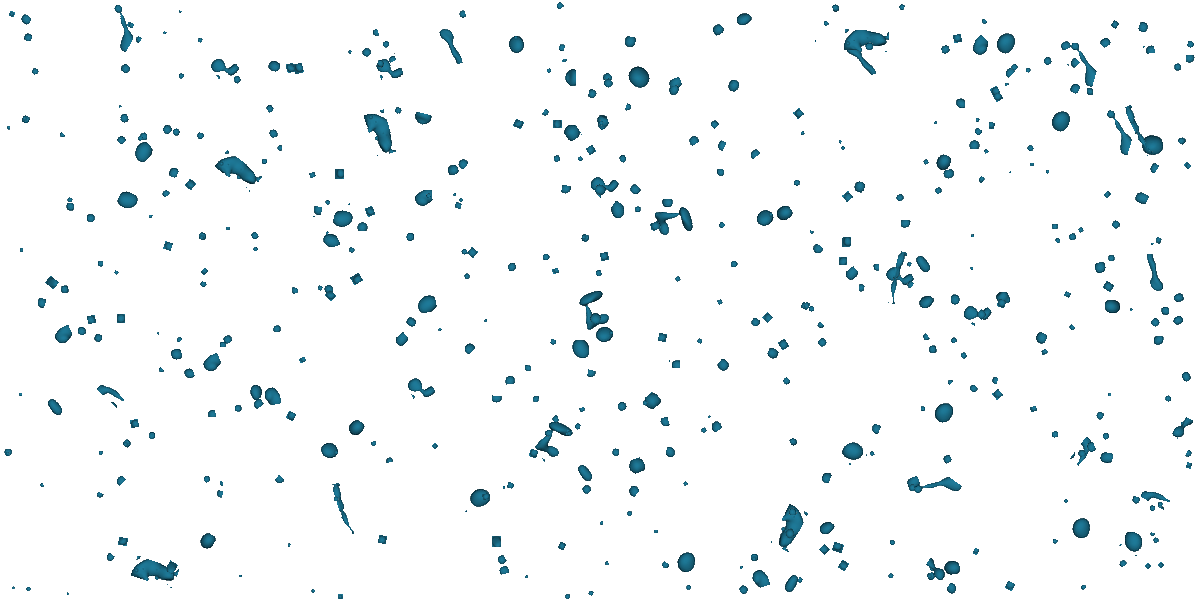Detached ligament: (525, 410, 582, 466), (912, 464, 963, 513), (649, 196, 700, 244), (97, 3, 145, 53), (214, 149, 263, 194), (571, 286, 615, 333), (1096, 109, 1139, 156), (769, 503, 809, 553), (1061, 41, 1103, 88), (130, 555, 180, 590), (363, 109, 397, 158), (1123, 104, 1154, 157), (844, 39, 877, 81), (331, 482, 355, 536), (586, 167, 621, 202), (843, 28, 890, 54), (886, 250, 908, 305), (959, 296, 994, 330), (207, 50, 241, 84), (882, 259, 916, 293), (404, 371, 437, 404), (373, 52, 405, 85), (438, 27, 463, 66), (1143, 253, 1168, 292), (95, 379, 126, 409), (1069, 435, 1097, 467), (1139, 485, 1171, 511), (922, 557, 950, 583), (1170, 414, 1194, 442)
drop: (465, 483, 495, 513), (1138, 130, 1167, 160), (839, 438, 868, 467), (1118, 528, 1147, 557), (625, 62, 653, 92), (128, 138, 156, 166), (114, 188, 142, 215), (1068, 515, 1095, 542), (968, 34, 994, 60), (674, 550, 699, 575), (504, 32, 529, 57), (592, 322, 617, 347), (331, 208, 356, 232), (51, 324, 76, 348), (932, 401, 956, 425), (343, 416, 367, 440), (771, 201, 795, 225), (753, 206, 777, 230), (200, 352, 224, 376), (780, 572, 803, 597), (607, 200, 631, 223), (414, 292, 438, 315), (45, 395, 67, 420), (575, 461, 597, 486), (913, 252, 935, 277), (195, 530, 218, 553), (318, 439, 341, 462), (748, 567, 771, 590), (640, 390, 663, 413), (560, 120, 583, 143), (318, 230, 341, 252), (732, 8, 754, 30), (815, 517, 837, 539), (995, 33, 1017, 54), (1050, 111, 1072, 132), (932, 152, 953, 174), (915, 291, 936, 313), (261, 385, 282, 407), (246, 381, 267, 402), (591, 111, 611, 133), (570, 339, 590, 361), (625, 456, 647, 476), (413, 189, 434, 209), (941, 558, 961, 576), (393, 331, 411, 349), (843, 265, 861, 283), (1104, 299, 1123, 316), (413, 111, 433, 127), (586, 309, 604, 326), (993, 291, 1012, 307), (1133, 190, 1150, 207), (715, 357, 732, 374), (1032, 330, 1049, 347), (944, 581, 961, 598), (626, 182, 643, 199), (725, 77, 742, 94), (709, 21, 726, 38), (667, 76, 684, 92), (905, 475, 922, 491), (180, 365, 196, 382), (266, 58, 283, 74), (1000, 64, 1016, 80), (111, 472, 127, 488), (461, 340, 477, 356), (851, 179, 867, 195), (765, 346, 781, 362), (249, 396, 265, 411), (745, 146, 761, 161), (1145, 160, 1160, 176), (708, 419, 724, 434), (626, 483, 641, 499), (666, 84, 682, 99), (664, 445, 679, 461), (600, 71, 616, 86), (159, 122, 174, 138), (601, 76, 616, 92), (118, 62, 134, 77), (613, 399, 629, 414), (44, 275, 60, 290), (564, 69, 577, 87), (455, 156, 470, 171), (810, 242, 825, 257), (18, 12, 33, 27), (1066, 56, 1081, 71), (273, 474, 288, 489), (1137, 20, 1152, 35), (164, 560, 179, 575), (445, 162, 460, 177), (593, 183, 608, 198), (1099, 451, 1114, 465), (868, 422, 882, 437), (686, 133, 701, 147), (713, 138, 727, 153), (1098, 35, 1113, 49), (819, 470, 833, 485), (410, 379, 425, 393), (349, 272, 364, 286), (1179, 369, 1193, 384), (1171, 313, 1186, 327), (169, 347, 183, 361), (1093, 261, 1107, 275), (1068, 81, 1082, 95), (966, 382, 980, 396), (1058, 38, 1072, 52), (75, 324, 89, 338), (404, 315, 418, 329), (34, 296, 47, 311), (658, 416, 671, 430), (167, 165, 180, 179), (1151, 335, 1165, 348), (953, 96, 966, 110), (1093, 408, 1106, 422), (1084, 441, 1097, 455), (831, 541, 845, 554), (1172, 291, 1186, 304), (580, 483, 593, 496), (221, 333, 234, 346), (360, 46, 373, 59), (737, 583, 750, 596), (950, 293, 963, 306), (1109, 218, 1122, 231), (1041, 55, 1054, 68), (497, 563, 510, 576), (121, 437, 134, 450), (115, 133, 128, 146), (816, 336, 829, 349), (749, 316, 762, 329), (1149, 316, 1162, 329), (708, 117, 721, 130), (103, 551, 116, 564), (466, 246, 479, 259), (975, 308, 988, 321), (324, 289, 337, 302), (292, 62, 305, 75), (184, 178, 197, 191), (837, 559, 850, 572), (792, 107, 805, 120), (495, 553, 508, 566), (991, 388, 1004, 401), (761, 311, 774, 324), (841, 190, 854, 203), (777, 338, 790, 351), (1102, 280, 1115, 293), (818, 543, 831, 556), (137, 130, 149, 143), (893, 192, 906, 204), (364, 205, 376, 218), (512, 118, 525, 130), (649, 220, 662, 232), (784, 527, 796, 540), (586, 369, 600, 380), (624, 36, 636, 48), (943, 169, 955, 181), (264, 102, 276, 114), (617, 152, 629, 164), (542, 427, 554, 439), (506, 261, 518, 273), (972, 126, 984, 138), (20, 114, 32, 126), (197, 230, 209, 242), (22, 31, 34, 43), (941, 453, 953, 465), (92, 332, 104, 344), (788, 435, 800, 447), (1176, 134, 1188, 146), (585, 144, 597, 156), (989, 85, 1001, 97), (285, 410, 297, 422), (118, 112, 130, 124), (1004, 580, 1016, 592), (162, 240, 174, 252), (992, 91, 1004, 103), (900, 219, 913, 230), (491, 395, 504, 406), (661, 198, 674, 209), (491, 535, 502, 548), (504, 374, 516, 385), (249, 230, 260, 242), (405, 231, 416, 243), (285, 62, 296, 74), (117, 536, 129, 547), (334, 168, 345, 180), (841, 236, 852, 248), (668, 359, 681, 369), (173, 333, 184, 344), (978, 17, 989, 28), (904, 279, 915, 290), (268, 128, 279, 139), (580, 233, 591, 244), (926, 571, 937, 582), (660, 560, 671, 571), (1117, 558, 1128, 569), (781, 376, 792, 387), (160, 188, 171, 199), (132, 34, 143, 45), (815, 321, 826, 332), (551, 413, 562, 424), (831, 2, 842, 13), (376, 58, 387, 69), (1130, 495, 1141, 506), (599, 251, 610, 262), (129, 418, 140, 429), (528, 448, 539, 459), (1025, 143, 1036, 154), (461, 271, 472, 282), (1150, 535, 1161, 546), (194, 131, 205, 142), (1038, 347, 1049, 358), (952, 33, 963, 44), (996, 298, 1007, 309), (657, 332, 668, 343), (561, 185, 573, 195), (204, 408, 216, 418), (271, 323, 283, 333), (610, 446, 620, 458), (2, 448, 14, 458), (1066, 232, 1078, 242), (232, 73, 242, 85), (969, 139, 980, 149), (357, 221, 368, 231), (85, 213, 96, 223), (56, 131, 67, 141), (155, 366, 166, 376), (944, 376, 955, 386), (1009, 62, 1020, 72), (710, 118, 720, 129), (386, 54, 397, 64), (1184, 448, 1194, 459), (921, 332, 931, 343), (541, 107, 551, 118), (95, 491, 106, 501), (171, 126, 181, 137), (1160, 305, 1170, 316), (1110, 19, 1120, 30), (552, 119, 563, 129), (959, 350, 969, 361), (176, 70, 186, 81), (716, 220, 726, 231), (554, 1, 565, 11), (948, 335, 959, 345), (976, 175, 986, 186), (116, 313, 126, 324), (1143, 45, 1155, 54), (313, 206, 322, 218), (1186, 55, 1198, 64), (381, 39, 391, 49), (202, 474, 212, 484), (1101, 431, 1111, 441), (750, 552, 760, 562), (65, 202, 75, 212), (928, 344, 938, 354), (60, 284, 70, 294), (864, 41, 874, 51), (788, 506, 798, 516), (715, 168, 725, 178), (838, 256, 848, 266), (800, 301, 810, 311), (557, 541, 567, 551), (792, 178, 802, 188), (542, 253, 552, 263), (730, 260, 740, 270), (806, 304, 816, 314), (459, 247, 469, 257), (1147, 503, 1157, 513), (371, 28, 380, 39), (232, 404, 243, 413), (1173, 61, 1182, 72), (594, 268, 603, 278), (30, 67, 40, 76), (393, 106, 403, 115), (990, 376, 999, 386), (624, 102, 633, 112), (552, 154, 562, 163), (148, 430, 157, 440), (557, 43, 566, 53), (324, 284, 333, 294), (481, 492, 491, 501), (198, 280, 208, 289), (573, 421, 582, 431), (549, 338, 559, 347), (506, 481, 516, 490), (1186, 40, 1196, 49), (588, 89, 597, 99), (897, 2, 906, 12), (1050, 537, 1059, 546), (821, 19, 830, 28), (934, 186, 943, 195), (941, 45, 950, 54), (1067, 323, 1076, 332), (796, 576, 805, 585), (87, 315, 96, 324), (378, 535, 387, 544), (200, 267, 209, 276), (1183, 161, 1192, 170), (1103, 190, 1112, 199), (1063, 290, 1072, 299), (1164, 394, 1173, 403), (1050, 430, 1059, 439), (1079, 583, 1088, 592), (136, 134, 145, 143), (1053, 236, 1062, 245), (872, 263, 880, 273), (532, 395, 542, 403), (524, 362, 532, 372), (887, 539, 897, 547), (1107, 254, 1116, 262), (1077, 449, 1086, 457), (218, 340, 227, 348), (291, 285, 299, 294), (1086, 87, 1094, 96), (1029, 405, 1038, 413), (972, 547, 980, 556), (551, 267, 560, 275), (298, 356, 307, 364), (126, 21, 135, 29), (803, 301, 811, 310), (634, 205, 642, 214), (96, 260, 104, 269), (424, 192, 433, 200), (260, 158, 269, 166), (545, 67, 553, 75), (576, 155, 584, 163), (578, 406, 586, 414), (332, 495, 340, 503), (922, 158, 930, 166), (66, 196, 74, 204), (324, 198, 332, 206), (252, 245, 260, 253), (685, 583, 693, 591), (905, 260, 913, 268), (1144, 562, 1152, 570), (8, 10, 16, 18), (1157, 561, 1165, 569), (431, 442, 439, 450), (799, 130, 807, 138), (37, 481, 45, 489), (674, 275, 682, 283), (1077, 226, 1085, 234), (696, 337, 704, 345), (700, 426, 708, 434), (887, 572, 895, 580), (681, 480, 689, 488), (112, 269, 120, 277), (597, 119, 605, 127), (196, 36, 204, 44), (1024, 66, 1032, 74), (641, 399, 649, 407), (587, 589, 595, 597), (316, 284, 324, 292), (482, 317, 490, 325), (932, 119, 940, 127), (451, 191, 459, 199), (523, 573, 531, 581), (868, 449, 876, 457), (982, 147, 990, 155), (24, 585, 32, 593), (839, 144, 847, 152), (1062, 497, 1070, 505), (216, 490, 223, 499), (459, 10, 466, 19), (384, 456, 393, 463), (455, 200, 462, 209), (347, 247, 356, 254), (1155, 237, 1162, 246), (275, 144, 282, 152), (920, 405, 927, 413), (908, 484, 915, 492), (1051, 223, 1059, 230), (1156, 501, 1164, 508), (859, 283, 865, 292), (309, 588, 316, 595), (346, 49, 353, 56), (564, 593, 571, 600), (626, 510, 633, 517), (969, 232, 976, 239), (337, 593, 344, 600), (975, 117, 982, 124), (97, 450, 104, 457), (501, 484, 508, 491), (237, 573, 244, 580), (4, 451, 11, 458), (370, 441, 377, 447), (1044, 169, 1050, 176), (309, 172, 316, 178), (738, 564, 745, 570), (989, 122, 995, 129), (1186, 462, 1192, 469), (437, 327, 443, 333), (162, 30, 168, 36), (685, 586, 691, 592), (458, 197, 464, 203), (566, 430, 572, 436), (603, 560, 609, 566), (1149, 532, 1155, 538), (717, 299, 723, 305), (837, 139, 843, 145), (1128, 306, 1134, 312), (177, 9, 183, 15), (117, 103, 123, 109), (155, 330, 161, 336), (809, 230, 816, 235), (6, 125, 11, 132), (599, 521, 604, 527), (969, 266, 974, 272), (463, 509, 469, 514), (19, 247, 24, 253), (225, 226, 231, 231), (653, 529, 659, 534), (1029, 162, 1035, 167), (1106, 392, 1112, 397), (148, 214, 154, 219), (18, 392, 23, 398), (1149, 242, 1155, 247), (1007, 170, 1013, 175), (346, 202, 352, 207), (813, 39, 818, 44), (562, 58, 567, 63), (219, 481, 224, 486), (65, 591, 70, 596), (325, 230, 329, 236), (287, 542, 291, 548), (1004, 82, 1010, 86), (11, 585, 15, 590), (707, 414, 711, 419)
